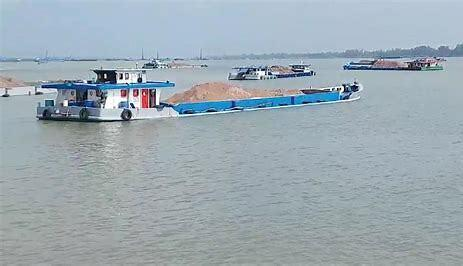Ship: (33, 76, 363, 120), (344, 54, 445, 73), (90, 60, 213, 73), (229, 65, 320, 79)
